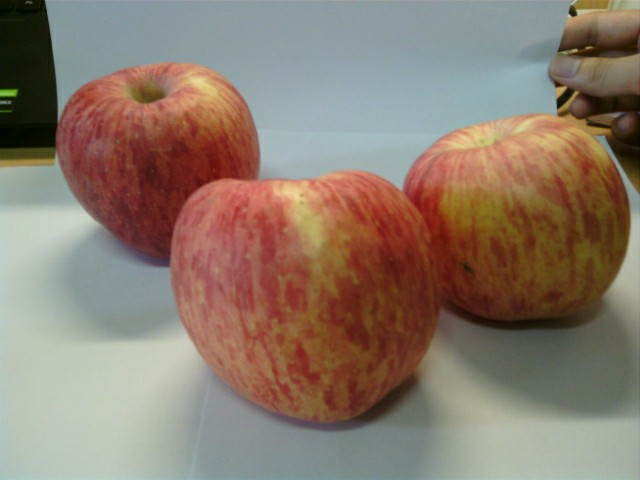normal_apple: (170, 171, 442, 431), (403, 111, 632, 328), (56, 63, 261, 260)
